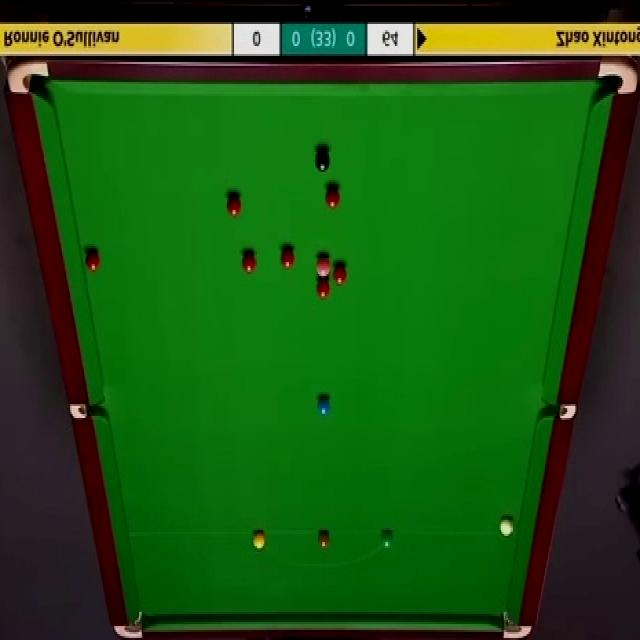black-ball: (314, 148, 331, 173)
blue-ball: (318, 394, 330, 416)
brown-ball: (318, 530, 330, 547)
green-ball: (382, 530, 393, 550)
pink-ball: (315, 252, 332, 278)
red-ball: (226, 192, 243, 221), (240, 249, 258, 274), (84, 247, 101, 272), (324, 186, 340, 209), (280, 244, 294, 269), (316, 277, 331, 298), (334, 261, 347, 285)
white-ball: (499, 517, 514, 539)
yellow-ball: (251, 530, 266, 551)
